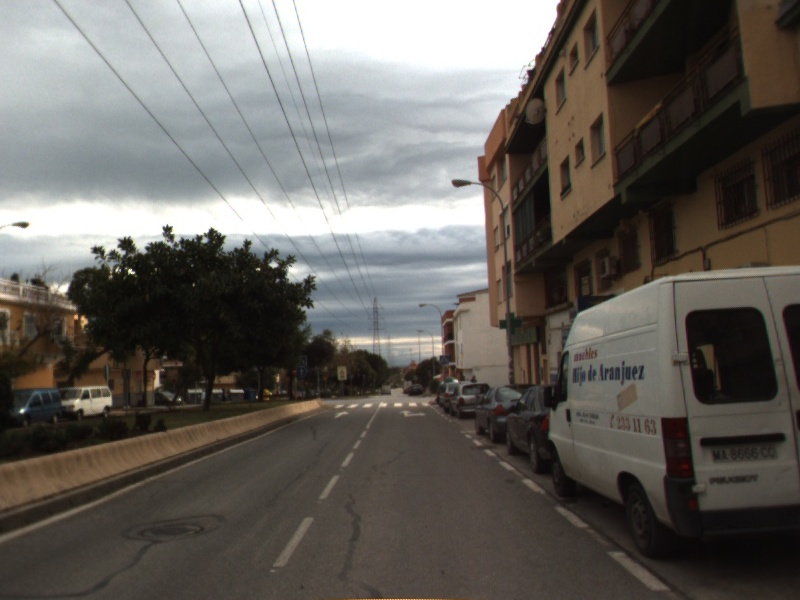STRAIGHT: (332, 409, 352, 420)
STRAIGHT_RIGHT: (397, 408, 428, 419)
